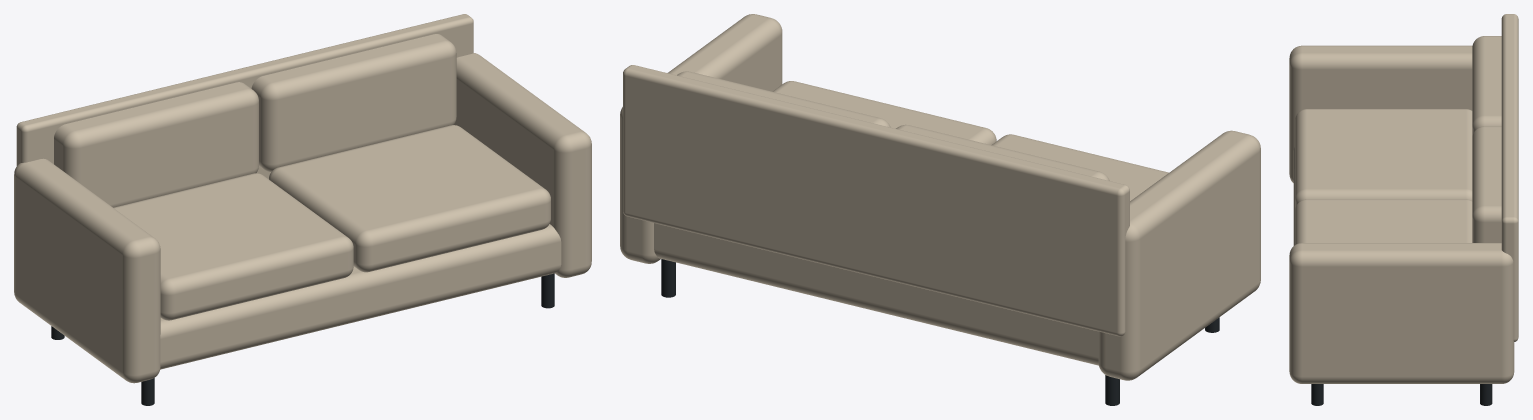
The model's file is sofa-1.glb.
The picture shows the model from 3 angles, left to right: view 1: azimuth 30°, elevation 25°; view 2: azimuth 150°, elevation 25°; view 3: azimuth 270°, elevation 25°; orthographic projection. The views are drawn at different scales.
Parts seen in each view (by area): view 1: sofa:1:archviz; view 2: sofa:1:archviz; view 3: sofa:1:archviz.
Part boxes in pixels (left/top/right/bottom): sofa:1:archviz: left=14, top=14, right=591, bottom=405; sofa:1:archviz: left=620, top=14, right=1260, bottom=405; sofa:1:archviz: left=1289, top=14, right=1518, bottom=405.
Bounding box in the file's own units: 1.8 × 0.77 × 0.815.
